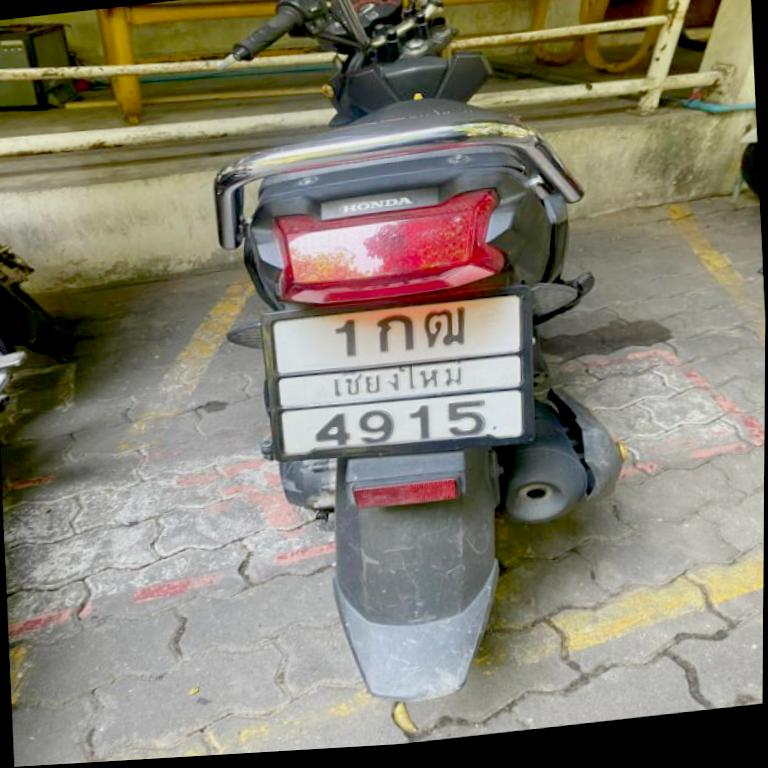license plate: (265, 289, 530, 457)
